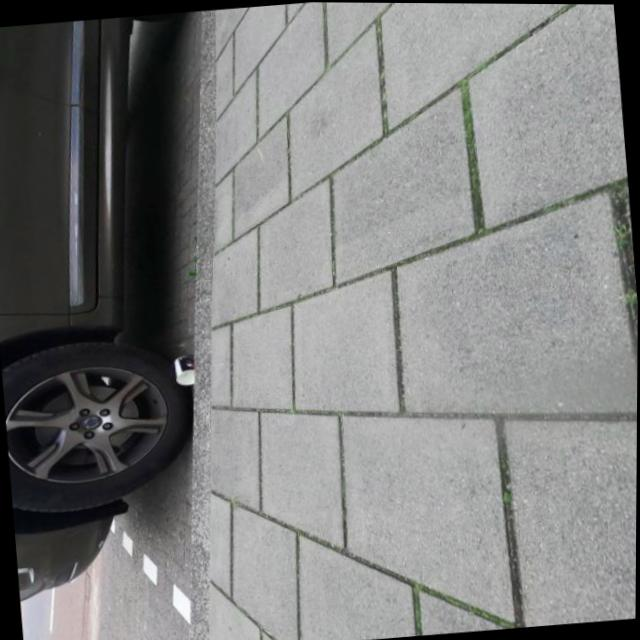Cup: (171, 354, 196, 386)
